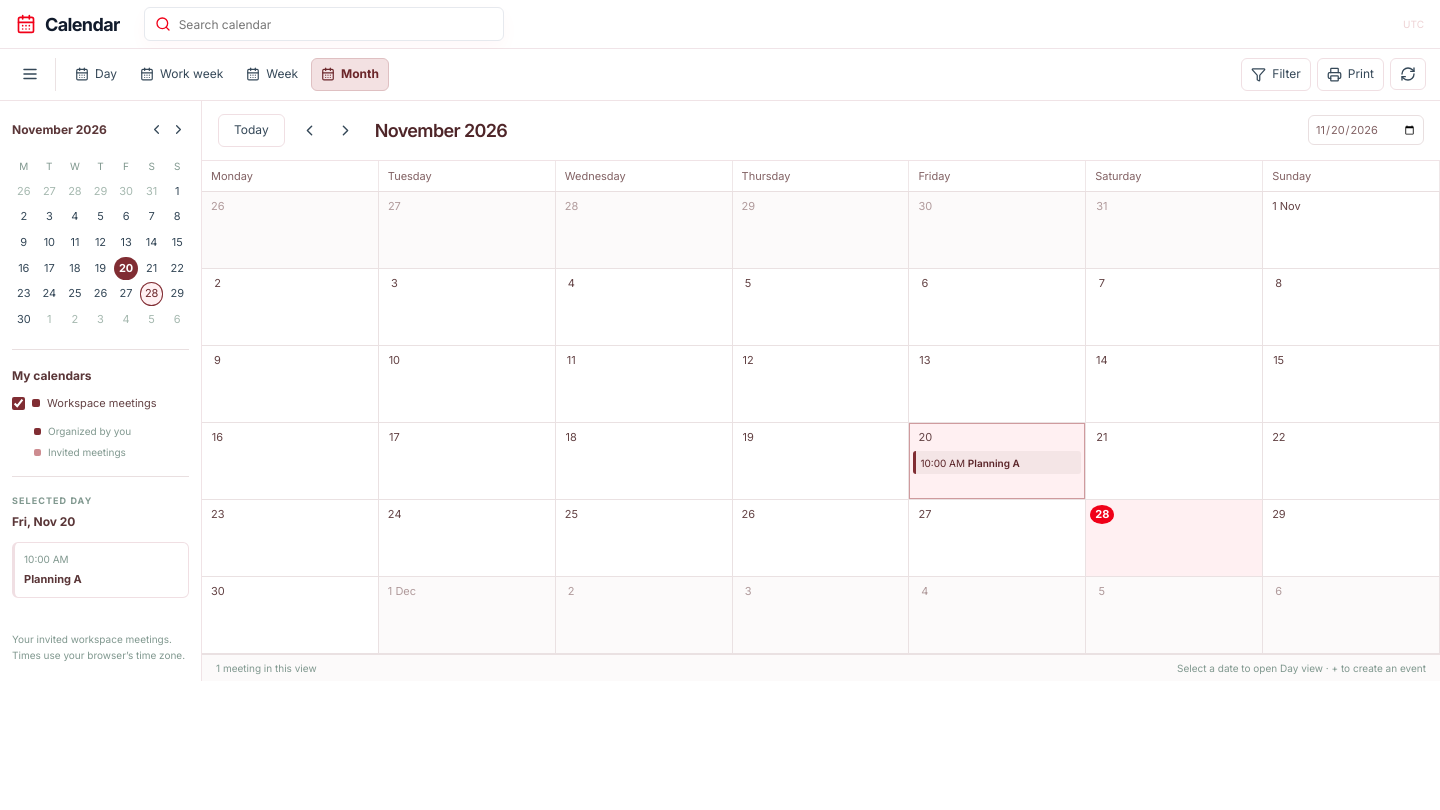
Test case: Workspace calendar controls › opens an existing event and filters the calendar without changing its data
The image size is (1440, 810).
Click the button "10:00 AM Planning A" below "Fri, Nov 20".
click(100, 570)  # box 12,542 -> 189,598
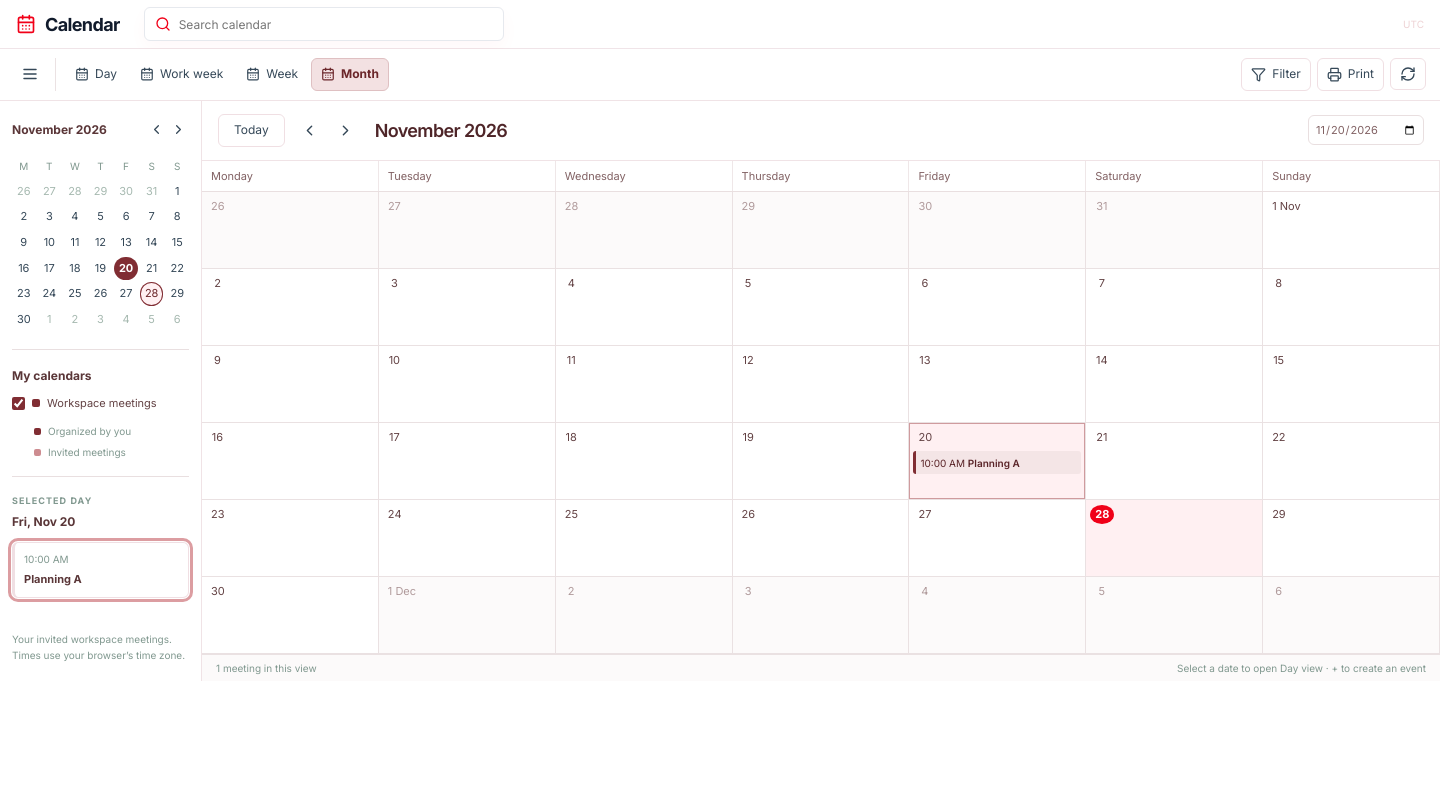
Click the checkbox labelled "Workspace meetings".
click(18, 403)  # box 12,397 -> 25,410
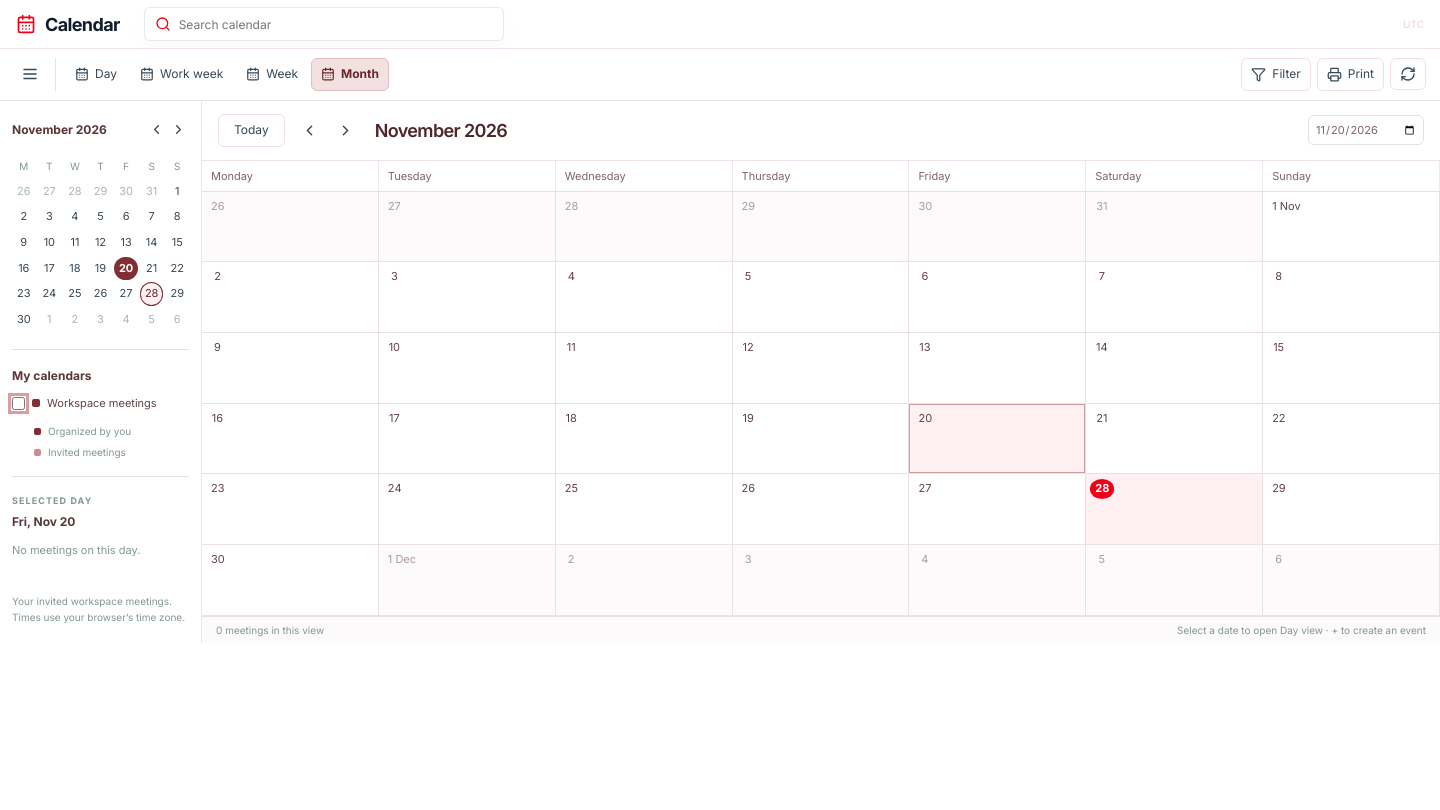
Now the button "Planning A" is gone
